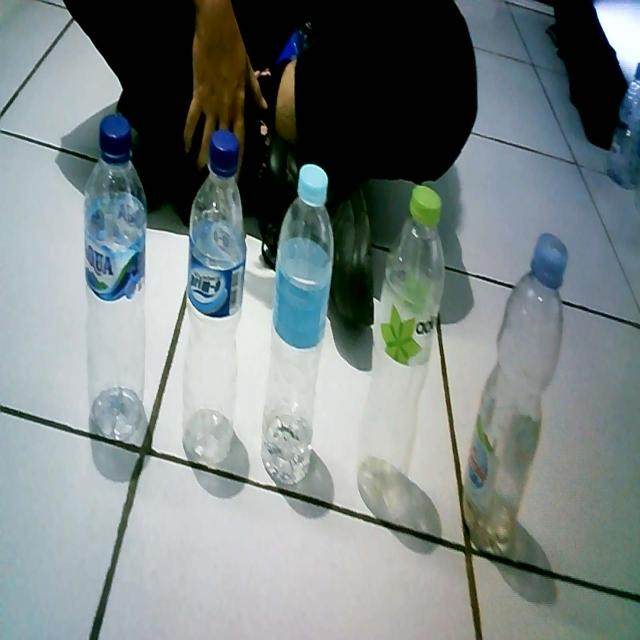botol: (460, 226, 574, 566), (356, 174, 450, 532), (73, 105, 163, 456), (262, 160, 338, 504), (180, 116, 252, 477)
